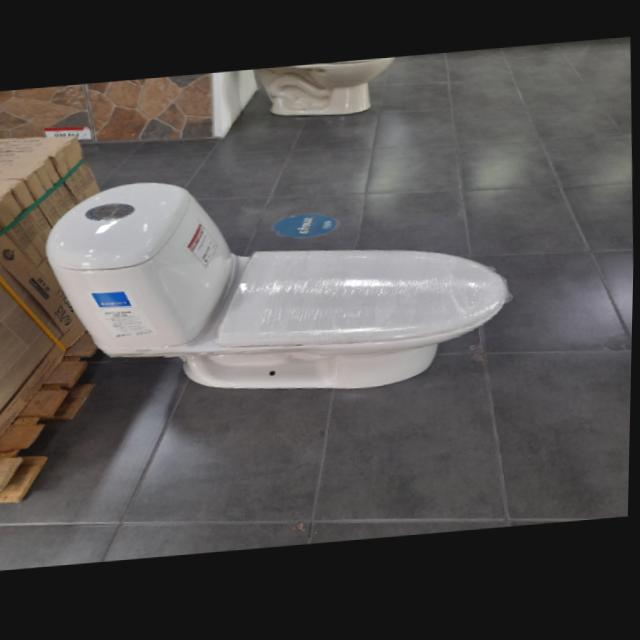toilet: (41, 154, 518, 416), (253, 59, 398, 124)
